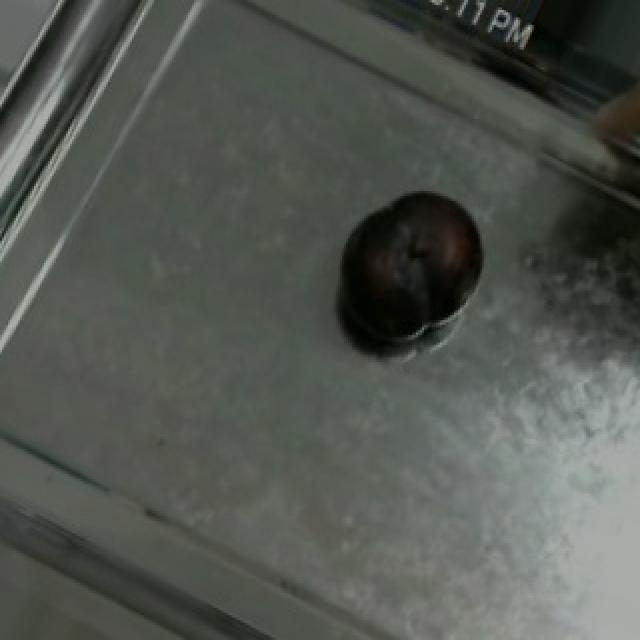Fruit: (326, 171, 506, 357)
